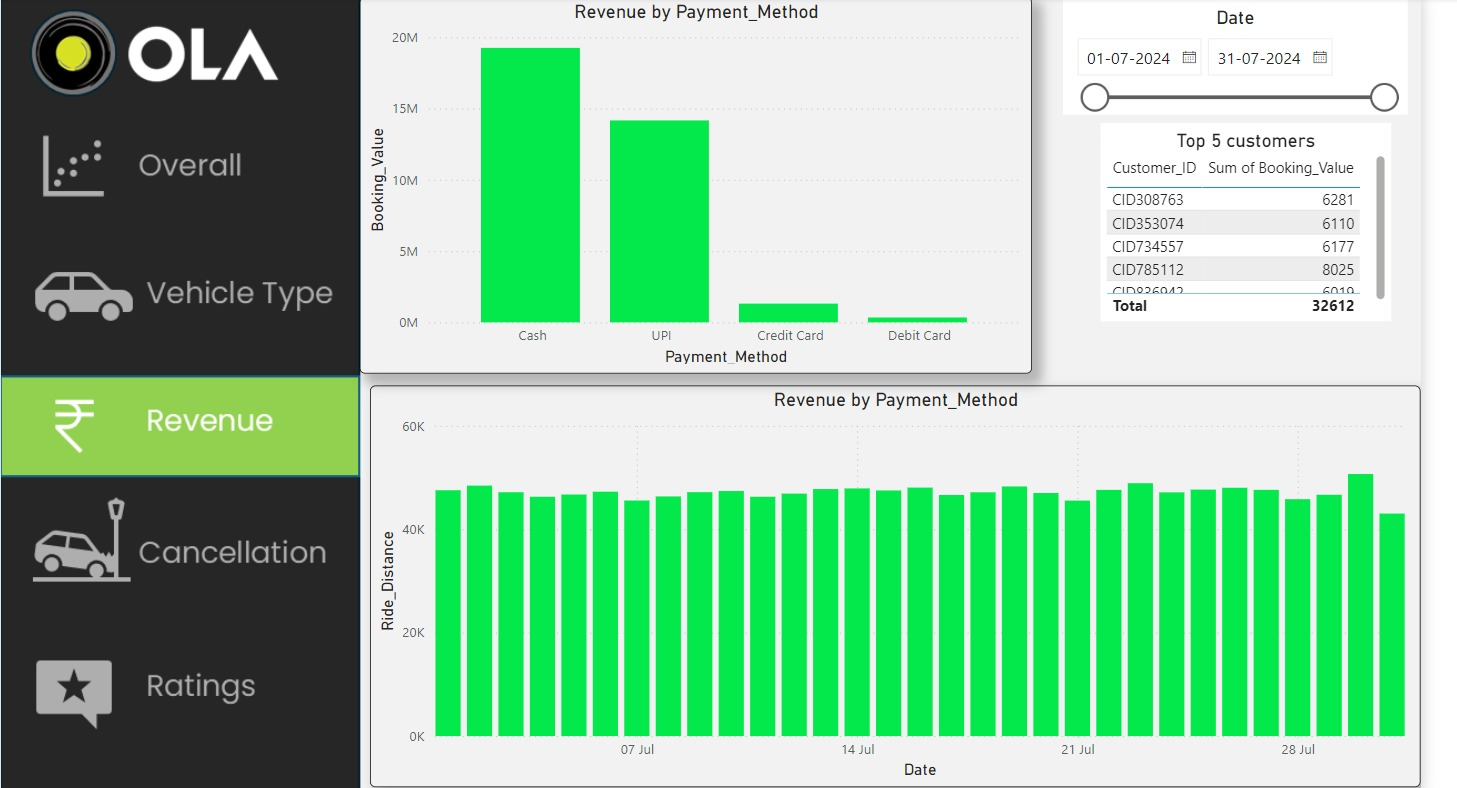

The page's visual inventory and layout, read from the dashboard file:
{"tool":"powerbi","page":{"name":"Revenue","canvas":[1280,720],"ordinal":2},"visuals":[{"type":"actionButton","box":[0,225.7,323.1,93.3],"z":0},{"type":"actionButton","box":[0,235.2,323.1,93.3],"z":1000},{"type":"actionButton","box":[10,245.2,323.1,93.3],"z":2000},{"type":"actionButton","box":[0,347.4,323.1,86.5],"z":3000},{"type":"actionButton","box":[20,255.2,323.1,93.3],"z":4000},{"type":"actionButton","box":[0,448.8,323.1,93.3],"z":5000},{"type":"actionButton","box":[0,433.9,323.1,93.3],"z":6000},{"type":"actionButton","box":[0,448.8,323.1,93.3],"z":7000},{"type":"actionButton","box":[0,577.2,323.1,93.3],"z":8000},{"type":"columnChart","title":"Revenue by Payment_Method","fields":{"Y":["Sum(Bookings.Booking_Value)"],"Category":["Bookings.Payment_Method"]},"box":[322.5,0,605.7,339.2],"z":9000},{"type":"columnChart","title":"Revenue by Payment_Method","fields":{"Category":["Bookings.Date"],"Y":["Sum(Bookings.Ride_Distance)"]},"box":[333.1,349.8,946.4,361.9],"z":10000},{"type":"slicer","title":"Date","fields":{"Values":["Bookings.Date"]},"box":[957,0,310.4,106],"z":11000},{"type":"tableEx","title":"Top  5 customers","fields":{"Values":["Bookings.Customer_ID","Sum(Bookings.Booking_Value)"]},"box":[990.3,113.6,262,178.7],"z":12000}]}

Visuals, with their boxes on the page's 1280x720 design canvas (x1, y1, x2, y2). These are canvas units, not pixel positions in the 1457x788 screenshot, which may show the page scaled, cropped or inside an application window:
actionButton: locate(0, 226, 323, 319)
actionButton: locate(0, 235, 323, 328)
actionButton: locate(10, 245, 333, 338)
actionButton: locate(0, 347, 323, 434)
actionButton: locate(20, 255, 343, 348)
actionButton: locate(0, 449, 323, 542)
actionButton: locate(0, 434, 323, 527)
actionButton: locate(0, 449, 323, 542)
actionButton: locate(0, 577, 323, 670)
"Revenue by Payment_Method" columnChart: locate(322, 0, 928, 339)
"Revenue by Payment_Method" columnChart: locate(333, 350, 1280, 712)
"Date" slicer: locate(957, 0, 1267, 106)
"Top  5 customers" tableEx: locate(990, 114, 1252, 292)
